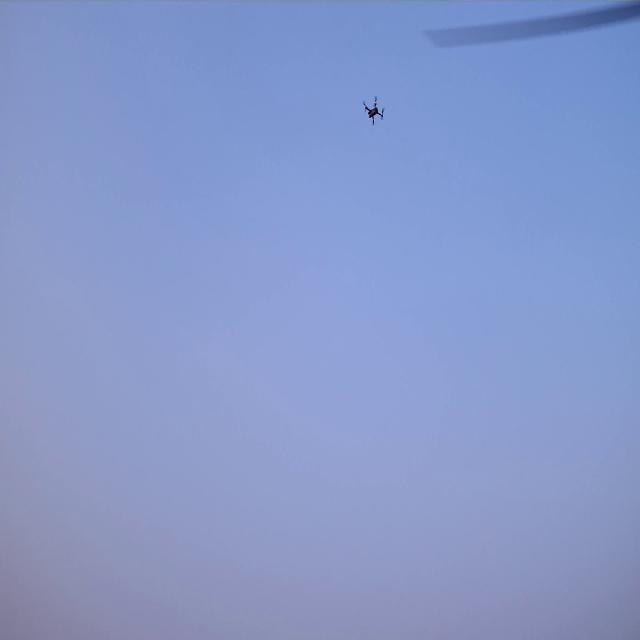UAV: (365, 99, 383, 124)
